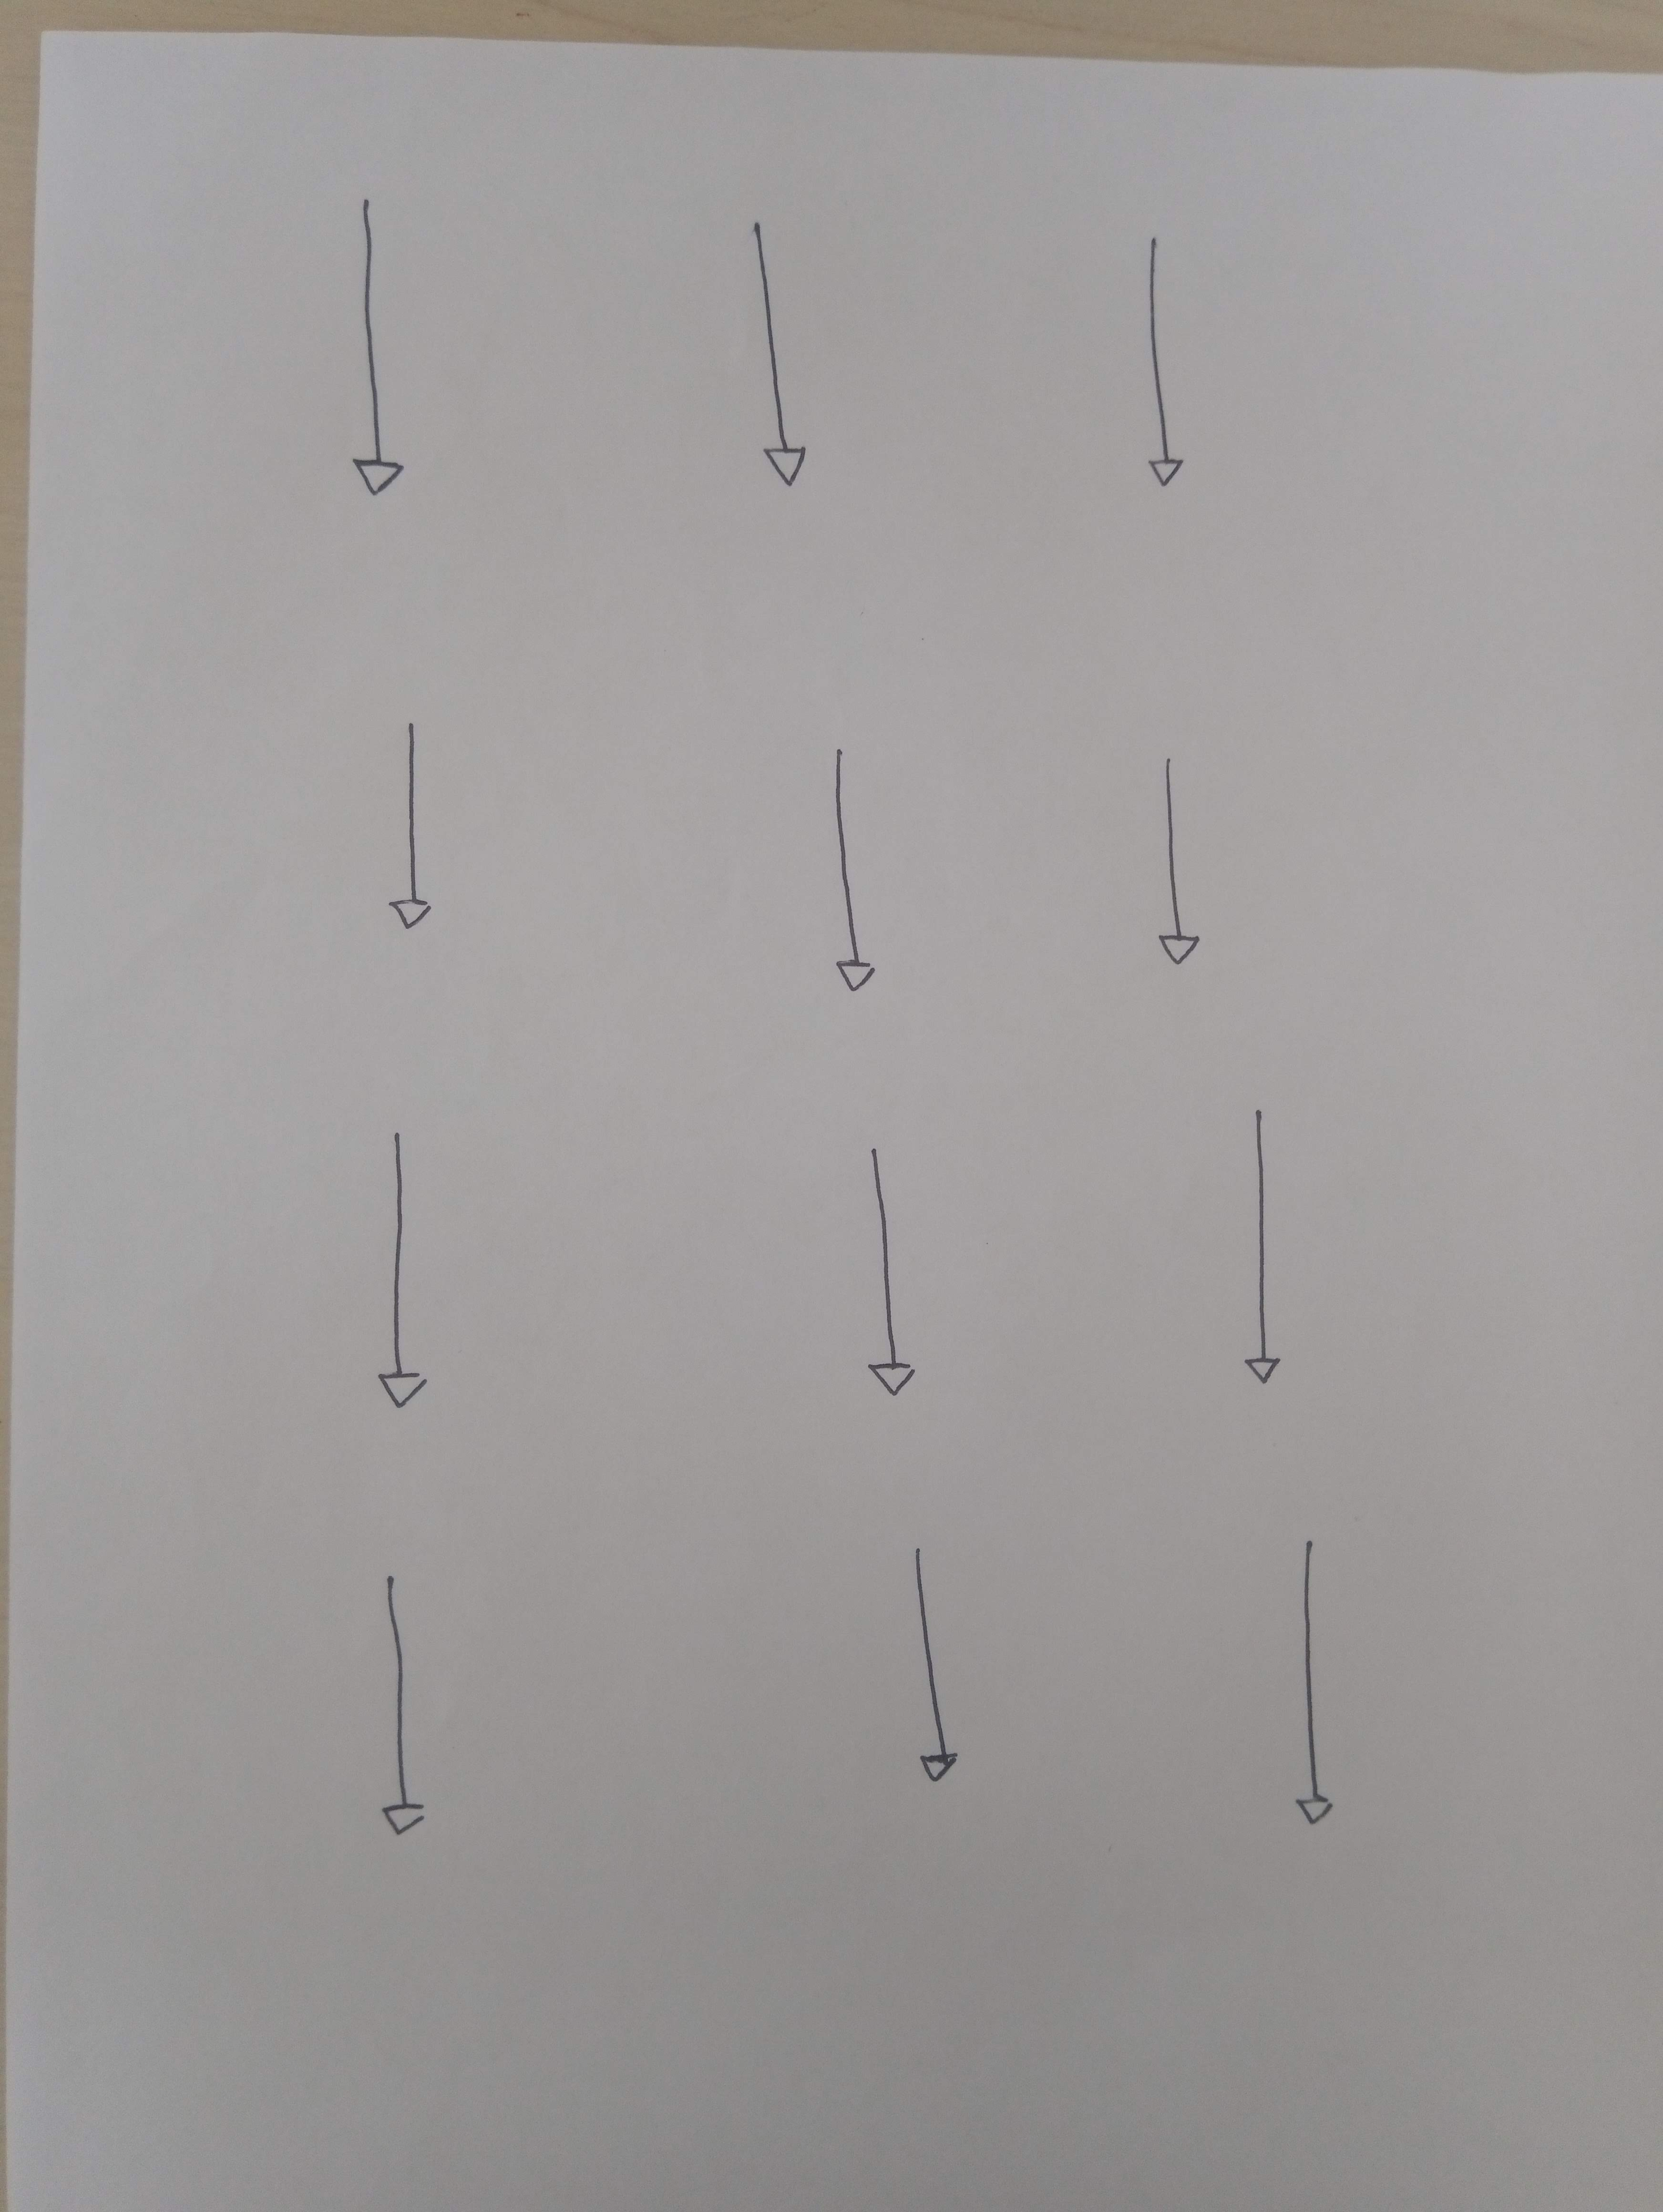arrow_line_down: (325, 201, 428, 508), (728, 234, 842, 505), (1272, 1533, 1361, 1842), (1118, 239, 1207, 492), (811, 745, 894, 1009), (367, 1140, 447, 1412), (1114, 763, 1211, 964), (840, 1156, 917, 1404), (360, 1583, 433, 1842), (1235, 1112, 1298, 1397), (898, 1559, 968, 1805), (377, 700, 440, 939)
